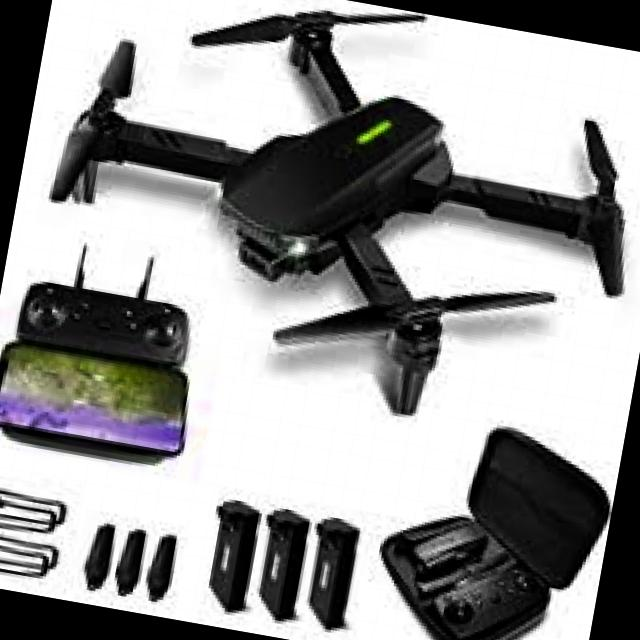drone: (0, 0, 640, 459)
